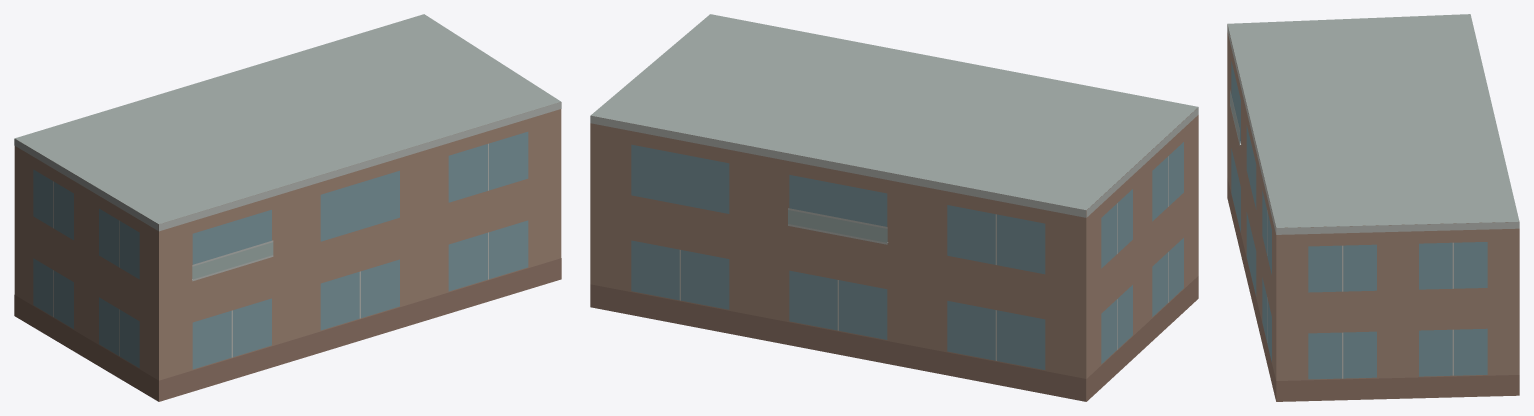
Rendered from survey-upis-32905591.glb.
3 renders of one model, left to right at view 1: azimuth 30°, elevation 25°; view 2: azimuth 150°, elevation 25°; view 3: azimuth 270°, elevation 25°, orthographic. The views are drawn at different scales.
Visible parts, largest first — view 1: survey-upis-32905591.tmp; view 2: survey-upis-32905591.tmp; view 3: survey-upis-32905591.tmp.
Boxes of the visible parts, <box> form: survey-upis-32905591.tmp: <box>14,14,561,401</box>; survey-upis-32905591.tmp: <box>590,14,1198,401</box>; survey-upis-32905591.tmp: <box>1227,14,1519,401</box>.
Bounding box in the file's own units: 16.11 × 6.1 × 9.3.
